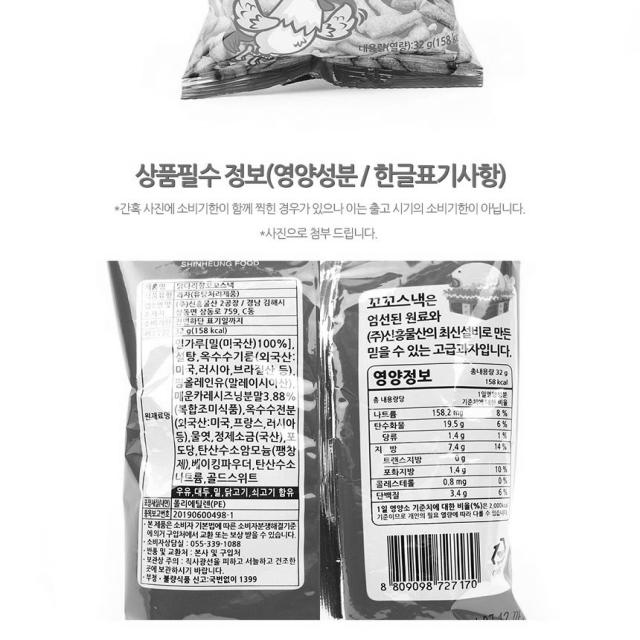Nutrition Label: (357, 355, 521, 531)
